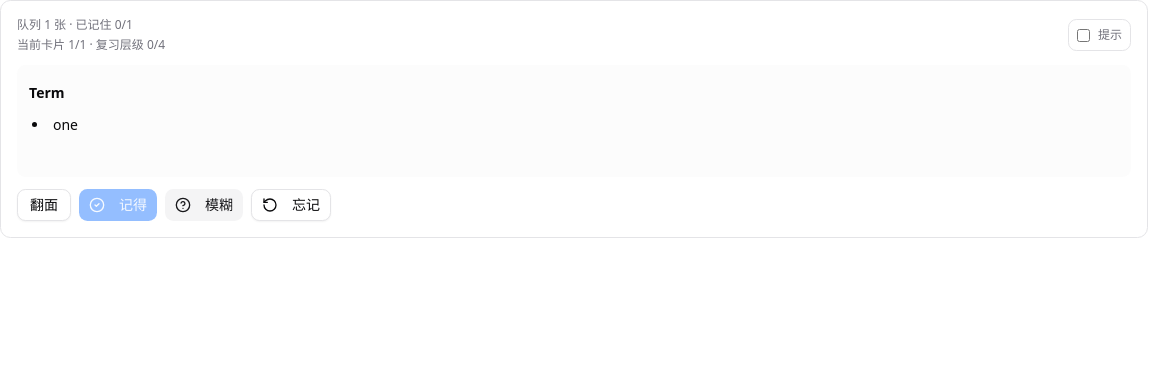
it: LearningAssetPreview flashcards › renders markdown in flashcard front, hint, and back content
Expected: the text "Term" is shown, x1=29 y1=83 x2=64 y2=102
Expected: the list item "one" is shown, x1=53 y1=115 x2=78 y2=134
Click the button "模糊" at (204, 205), box x1=165 y1=189 x2=243 y2=221
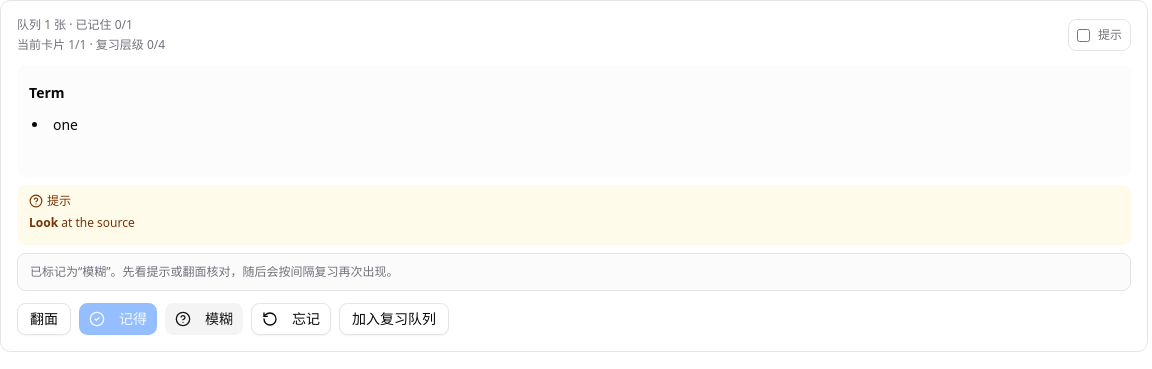
Now the text "Look" is shown, box x1=29 y1=214 x2=58 y2=231
Click the button "翻面" at (44, 319), box x1=17 y1=303 x2=71 y2=335
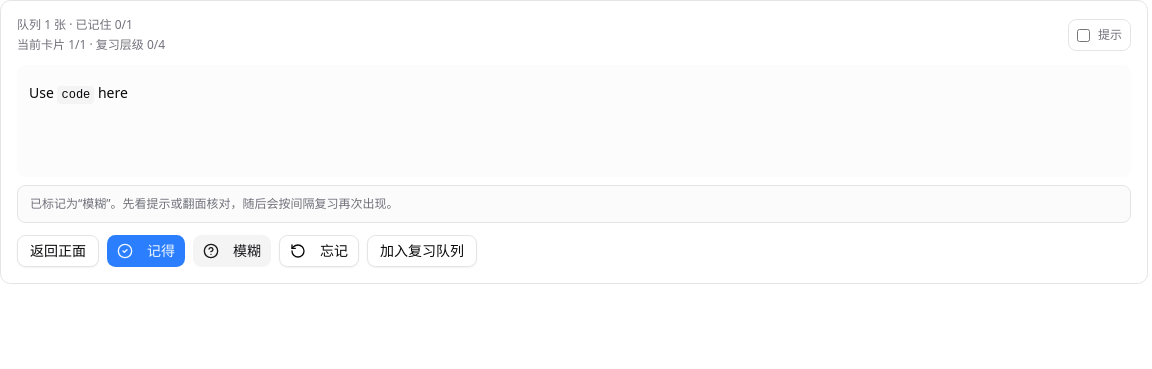
Now the text "code" is shown, box x1=58 y1=86 x2=94 y2=104
Now the button "记得" is enabled, box x1=107 y1=235 x2=185 y2=267
